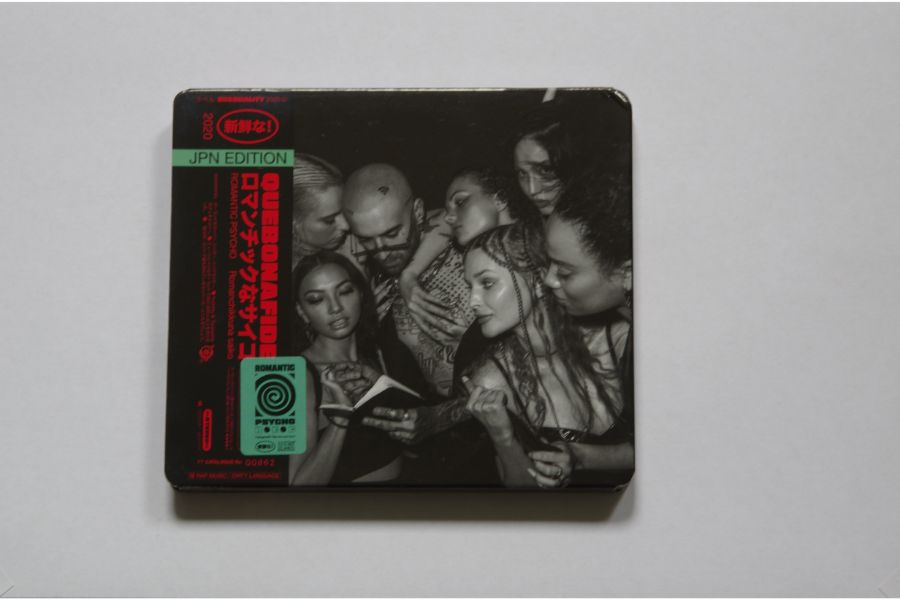album: (164, 84, 637, 488)
